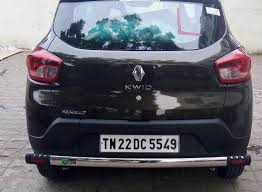T: (102, 136, 109, 150)
